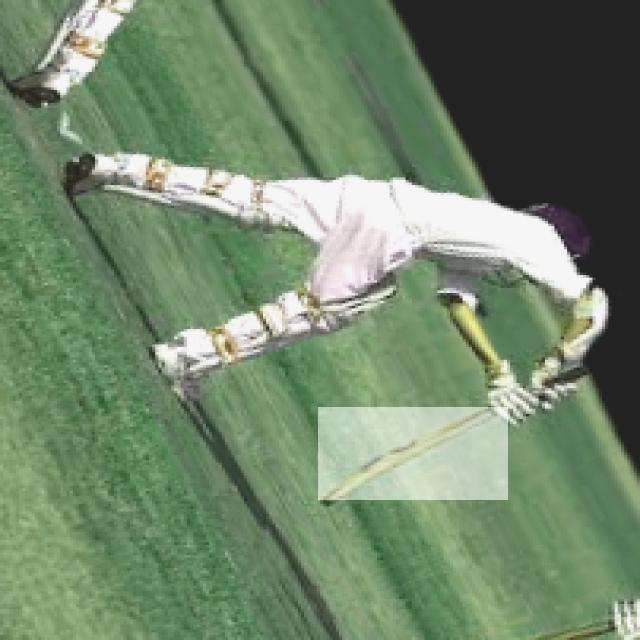bat: (317, 408, 506, 501)
